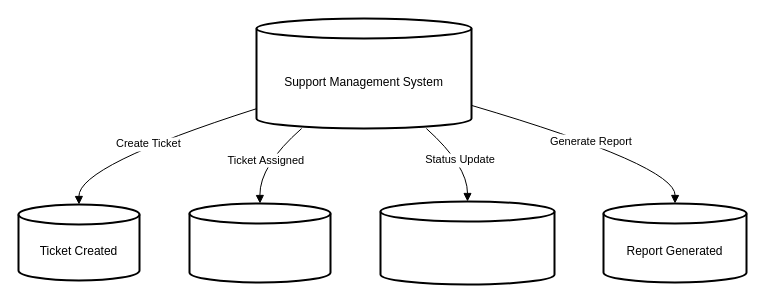
This 764x302 diagram has some shape labels left out. Here are the shapes that lost their labels. From the top down, the centre of each, then its label:
At point (259, 242): "Ticket In Progress".
At point (467, 242): "Ticket Status Updated".
